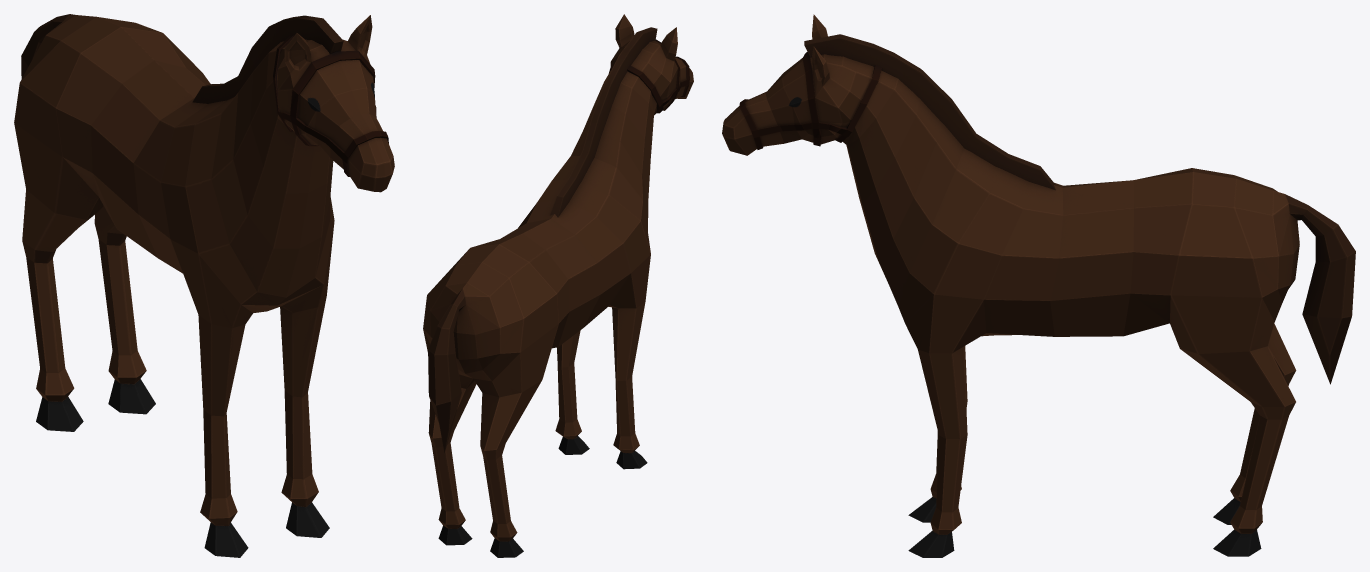
File: Horse.gltf
3 views of the same model, side by side, from view 1: azimuth 30°, elevation 25°; view 2: azimuth 150°, elevation 25°; view 3: azimuth 270°, elevation 25° (orthographic). The views are drawn at different scales.
Visible parts, largest first — view 1: node-0; view 2: node-0; view 3: node-0.
Part boxes in pixels (<box>): node-0: <box>14,14,394,557</box>; node-0: <box>423,14,693,557</box>; node-0: <box>722,14,1355,557</box>.
Bounding box in the file's own units: 3.49 × 12.82 × 14.65.
Materials: 1 (1 with a texture image).
